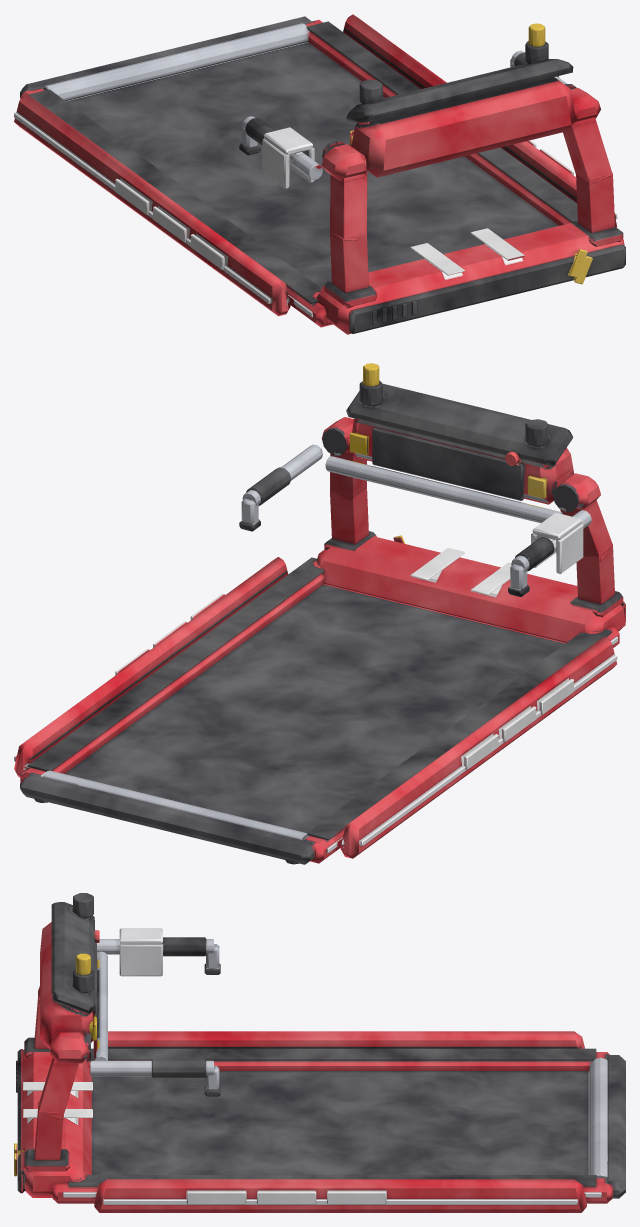
File: Treadmill_Sport_Rig.fbx
3 views of the same model, one above another, from view 1: azimuth 30°, elevation 25°; view 2: azimuth 150°, elevation 25°; view 3: azimuth 270°, elevation 25° (orthographic). The views are drawn at different scales.
Parts seen in each view (by area): view 1: Frame, Console, Decor; view 2: Frame, Console, Decor; view 3: Frame, Decor, Console.
Part boxes in pixels (x1,y1,x2,y2): Frame: (20,16,625,334); Console: (239,23,623,308); Decor: (14,14,617,316); Frame: (20,535,625,864); Console: (239,363,623,617); Decor: (14,427,617,858); Frame: (14,1048,625,1203); Decor: (23,1031,586,1212); Console: (24,893,220,1172).
Size of the model in its own units: 9.41 by 6 by 15.24.
1 material, 1 textured.
